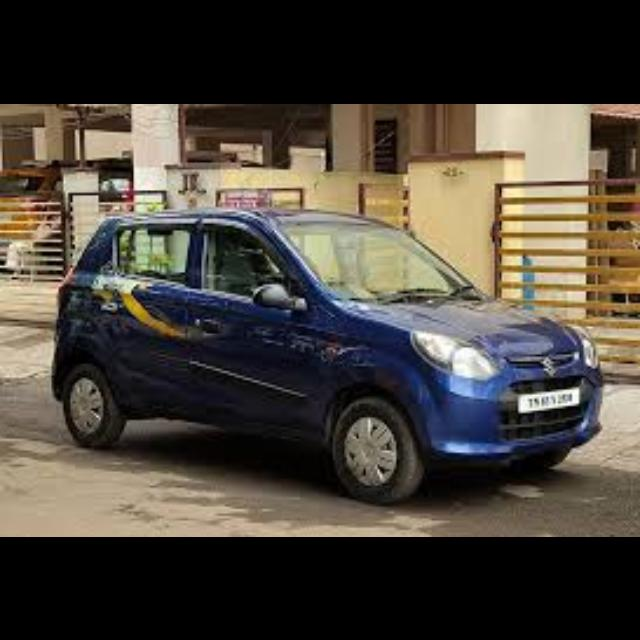number-plate: (516, 384, 579, 410)
vehicles: (35, 194, 609, 508)
